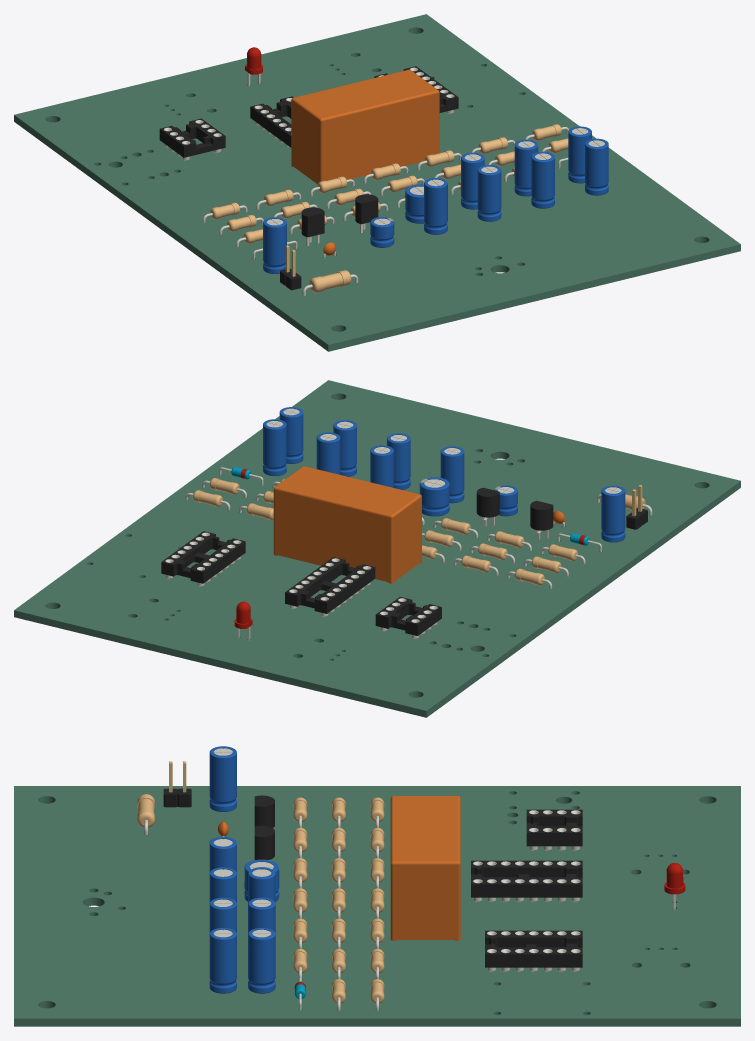
Rendered from bass_compressor.glb.
3 views of the same model, one above another, from view 1: azimuth 30°, elevation 25°; view 2: azimuth 150°, elevation 25°; view 3: azimuth 270°, elevation 25° (orthographic). The views are drawn at different scales.
Parts seen in each view (by area): view 1: =>[0:1:1:30], =>[0:1:1:17], =>[0:1:1:7] (×8), =>[0:1:1:9], =>[0:1:1:13] (×2), =>[0:1:1:15], =>[0:1:1:29], =>[0:1:1:3], =>[0:1:1:21], =>[0:1:1:25], =>[0:1:1:27]; view 2: =>[0:1:1:30], =>[0:1:1:17], =>[0:1:1:7] (×8), =>[0:1:1:15], =>[0:1:1:29], =>[0:1:1:9], =>[0:1:1:13] (×2), =>[0:1:1:21], =>[0:1:1:27], =>[0:1:1:3]; view 3: =>[0:1:1:30], =>[0:1:1:17], =>[0:1:1:7] (×8), =>[0:1:1:15], =>[0:1:1:29], =>[0:1:1:9], =>[0:1:1:13] (×2), =>[0:1:1:27], =>[0:1:1:23], =>[0:1:1:25], =>[0:1:1:21].
Part boxes in pixels (x1,y1,x2,y2): =>[0:1:1:30]: (14, 14, 740, 351); =>[0:1:1:17]: (291, 69, 439, 184); =>[0:1:1:7] (×8): (263, 126, 608, 273); =>[0:1:1:9]: (159, 118, 225, 160); =>[0:1:1:13] (×2): (301, 194, 378, 245); =>[0:1:1:15]: (250, 96, 293, 147); =>[0:1:1:29]: (374, 66, 458, 114); =>[0:1:1:3]: (370, 217, 394, 247); =>[0:1:1:21]: (405, 184, 424, 223); =>[0:1:1:25]: (302, 270, 358, 295); =>[0:1:1:27]: (280, 245, 301, 290); =>[0:1:1:30]: (14, 380, 740, 717); =>[0:1:1:17]: (273, 466, 421, 583); =>[0:1:1:7] (×8): (263, 407, 625, 542); =>[0:1:1:15]: (285, 557, 375, 616); =>[0:1:1:29]: (161, 531, 245, 586); =>[0:1:1:9]: (375, 597, 441, 639); =>[0:1:1:13] (×2): (476, 487, 553, 539); =>[0:1:1:21]: (419, 477, 449, 516); =>[0:1:1:27]: (626, 485, 647, 529); =>[0:1:1:3]: (494, 485, 517, 516); =>[0:1:1:30]: (14, 786, 740, 1026); =>[0:1:1:17]: (390, 796, 460, 940); =>[0:1:1:7] (×8): (209, 746, 275, 993); =>[0:1:1:15]: (471, 860, 582, 902); =>[0:1:1:29]: (485, 930, 582, 972); =>[0:1:1:9]: (526, 809, 582, 851); =>[0:1:1:13] (×2): (254, 795, 274, 860); =>[0:1:1:27]: (163, 761, 191, 807); =>[0:1:1:23]: (664, 863, 685, 909); =>[0:1:1:25]: (137, 794, 154, 834); =>[0:1:1:21]: (244, 859, 279, 901).
Bounding box in the file's own units: 0.1 × 0.021 × 0.132.
